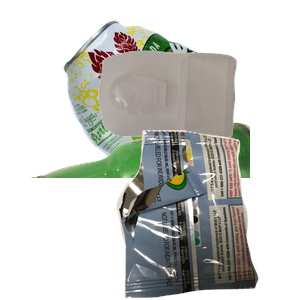glass: (23, 120, 263, 300)
metal: (60, 18, 300, 198)
plastic: (96, 48, 300, 179)
trash: (114, 130, 300, 300)
